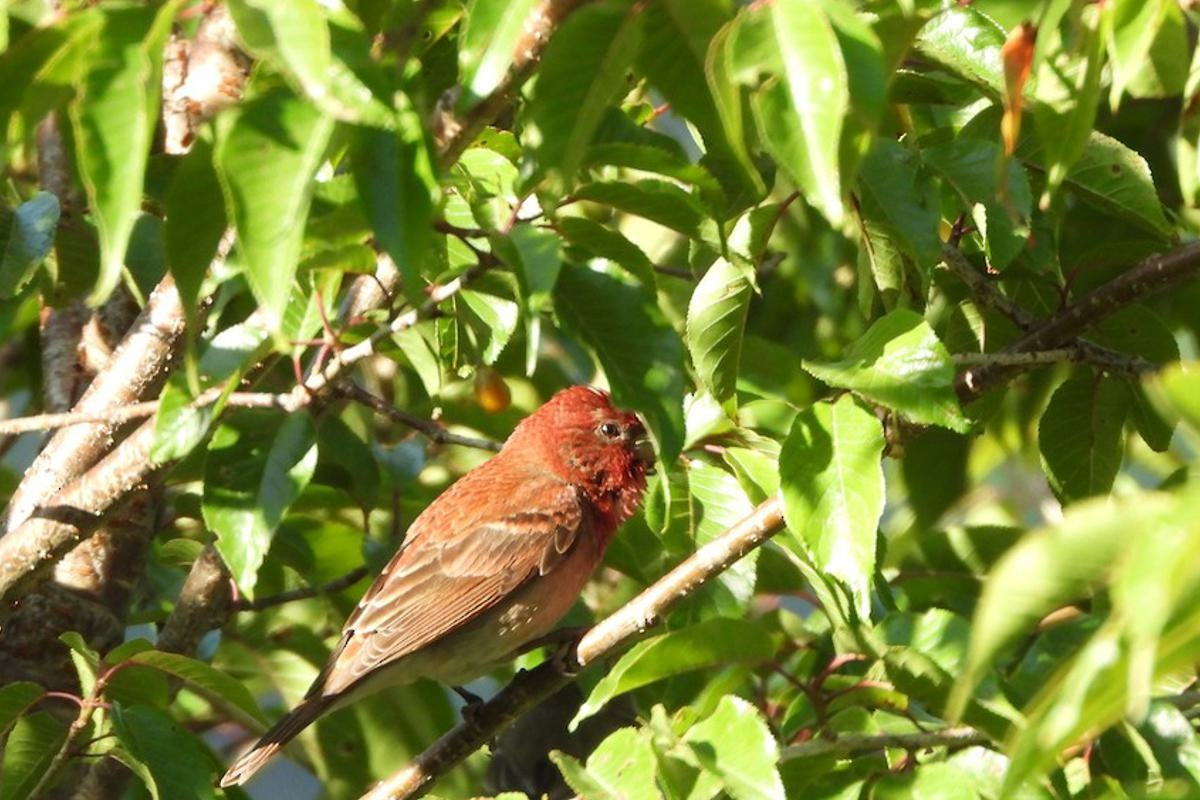rosefinch: (326, 370, 697, 702)
